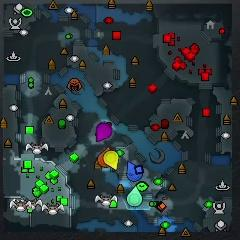p1: (126, 162, 142, 182)
p2: (127, 187, 142, 207)
p3: (94, 122, 112, 145)
p4: (104, 150, 119, 172)
p5: (98, 147, 110, 167)
